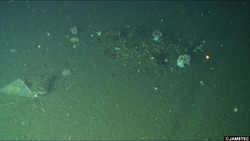fishing net: (100, 24, 199, 77)
